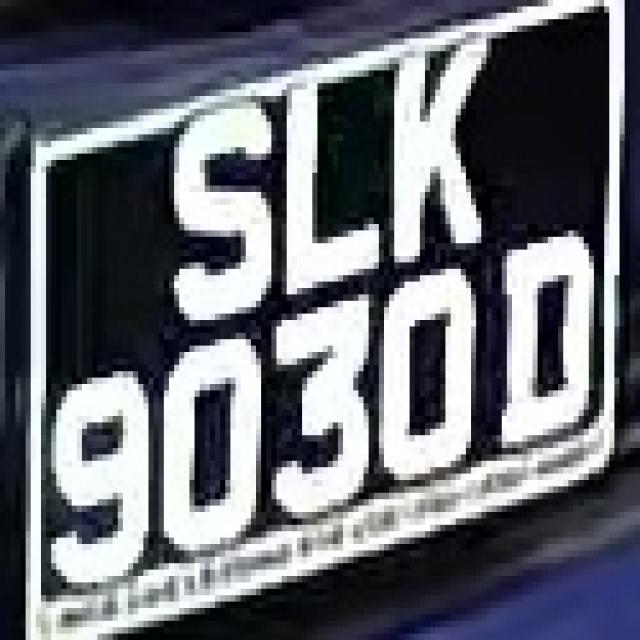0: (148, 320, 266, 582), (368, 256, 486, 499)
3: (251, 301, 384, 544)
9: (41, 352, 159, 582)
D: (497, 218, 609, 460)
K: (374, 32, 486, 262)
L: (271, 51, 384, 301)
S: (148, 84, 282, 326)
